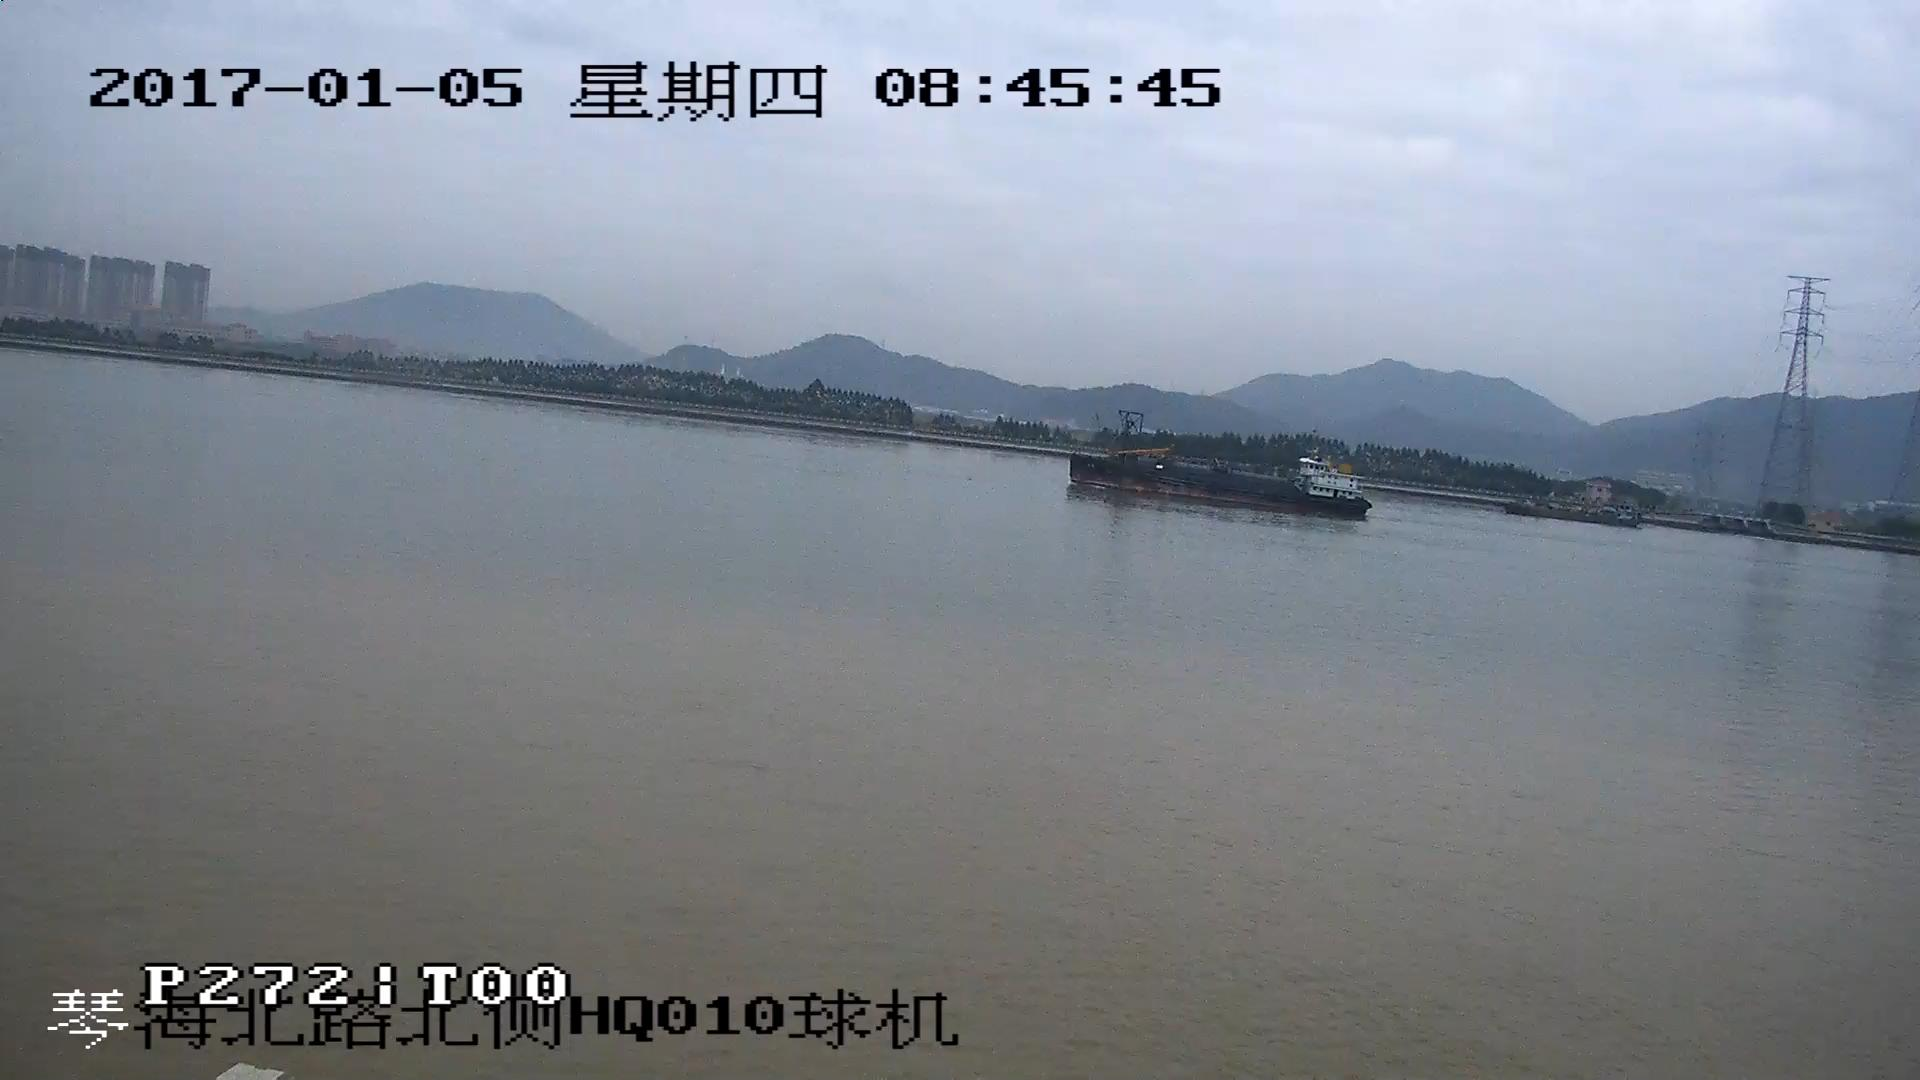bulk cargo carrier: (1065, 414, 1362, 519)
